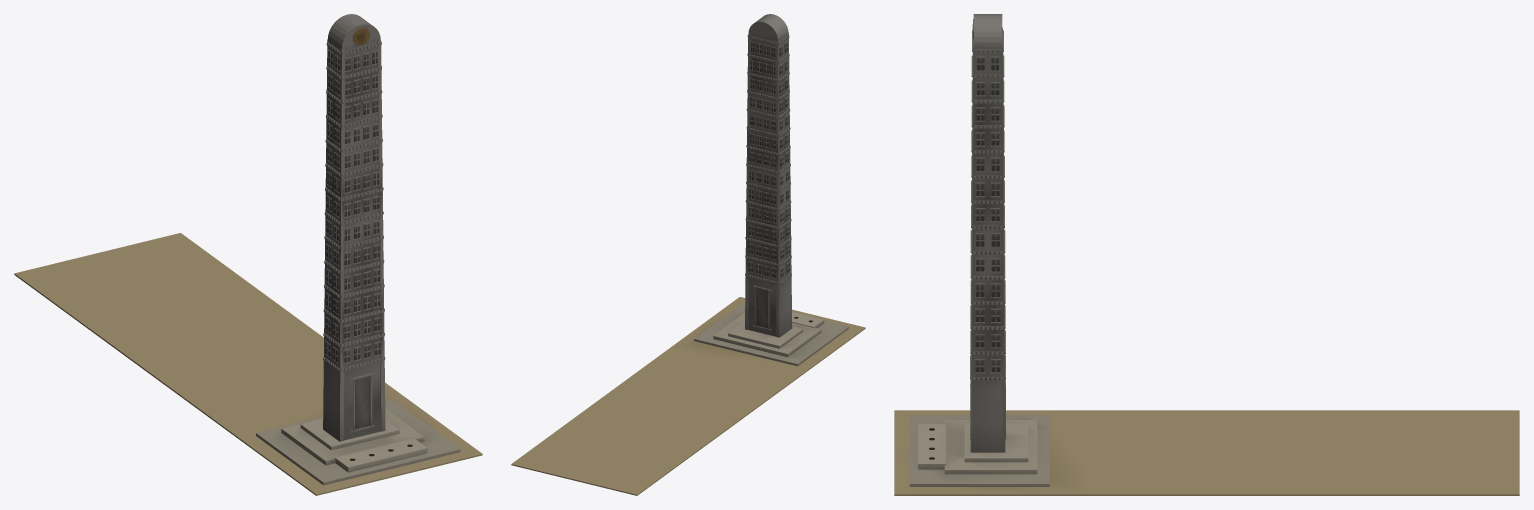
File: great-stele.glb
3 renders of one model, left to right at view 1: azimuth 30°, elevation 25°; view 2: azimuth 150°, elevation 25°; view 3: azimuth 270°, elevation 25°, orthographic. The views are drawn at different scales.
Parts seen in each view (by area): view 1: p0_platform, p1_stele; view 2: p0_platform, p1_stele; view 3: p0_platform, p1_stele.
Boxes of the visible parts, x1,y1,x2,y2 form: p0_platform: (14, 233, 482, 495); p1_stele: (323, 14, 385, 441); p0_platform: (511, 297, 865, 495); p1_stele: (745, 14, 792, 337); p0_platform: (894, 410, 1519, 495); p1_stele: (970, 14, 1005, 452).
Bounding box in the file's own units: 14 × 34 × 44.
